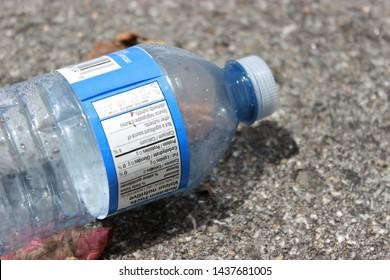plastic_bottle: (1, 39, 275, 257)
